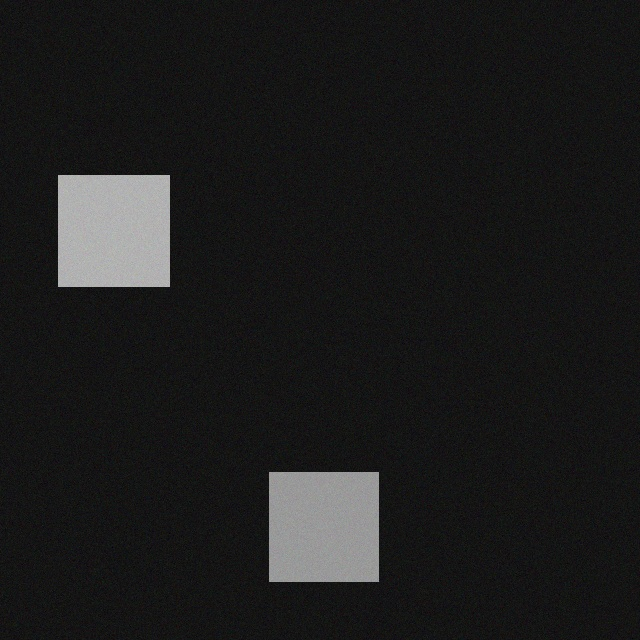square: (60, 168, 171, 279), (271, 465, 380, 574)
